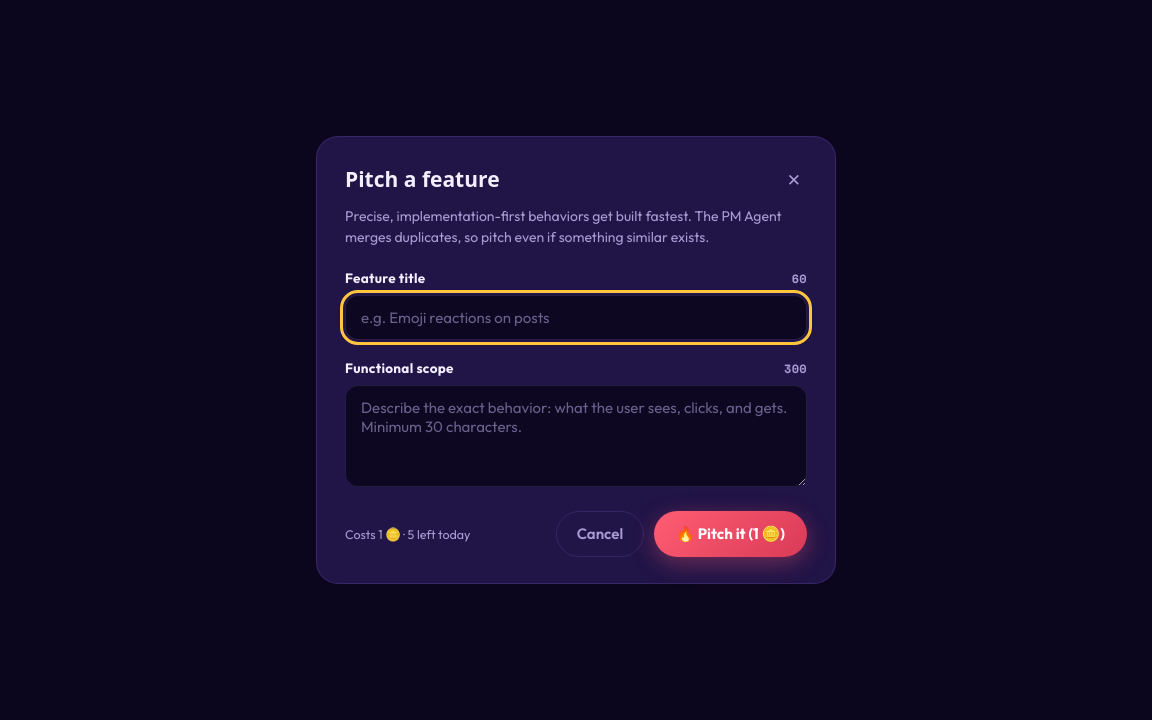
Test: R2 — live character counters › shows a count that tracks typing
This screenshot has width=1152, height=720.
Type "abc" into the field at (576, 318), box [345,295,807,340]
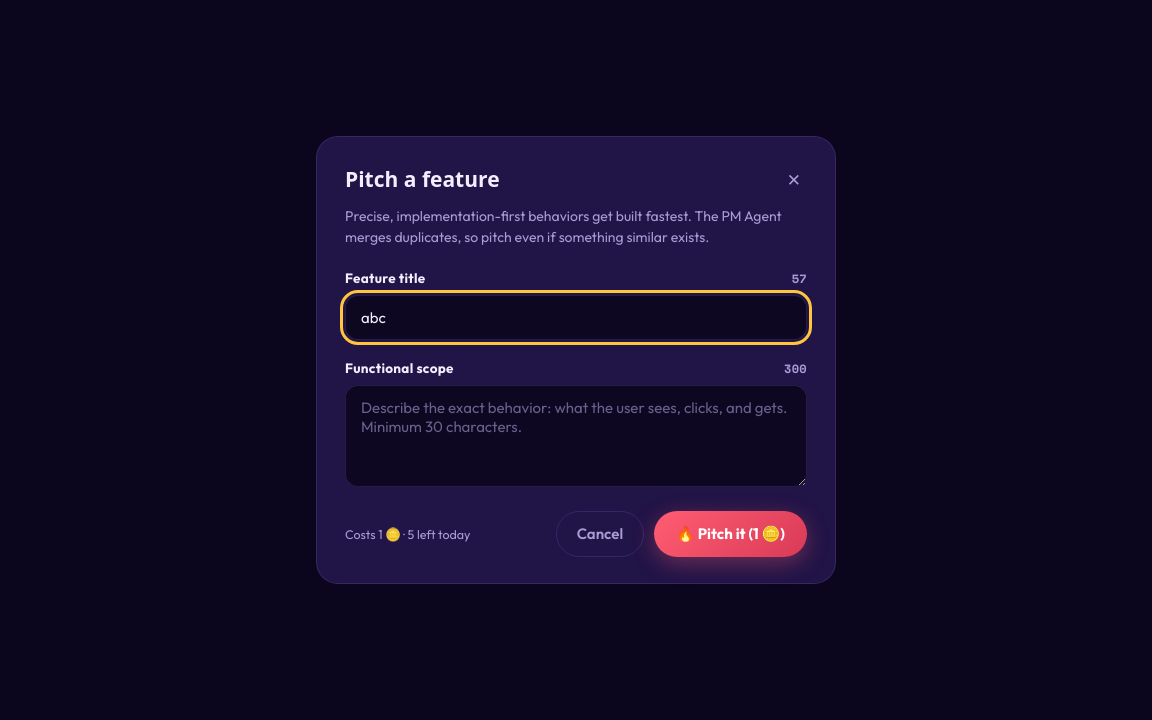
Result: the text with class "char-count" no longer shows "60"
